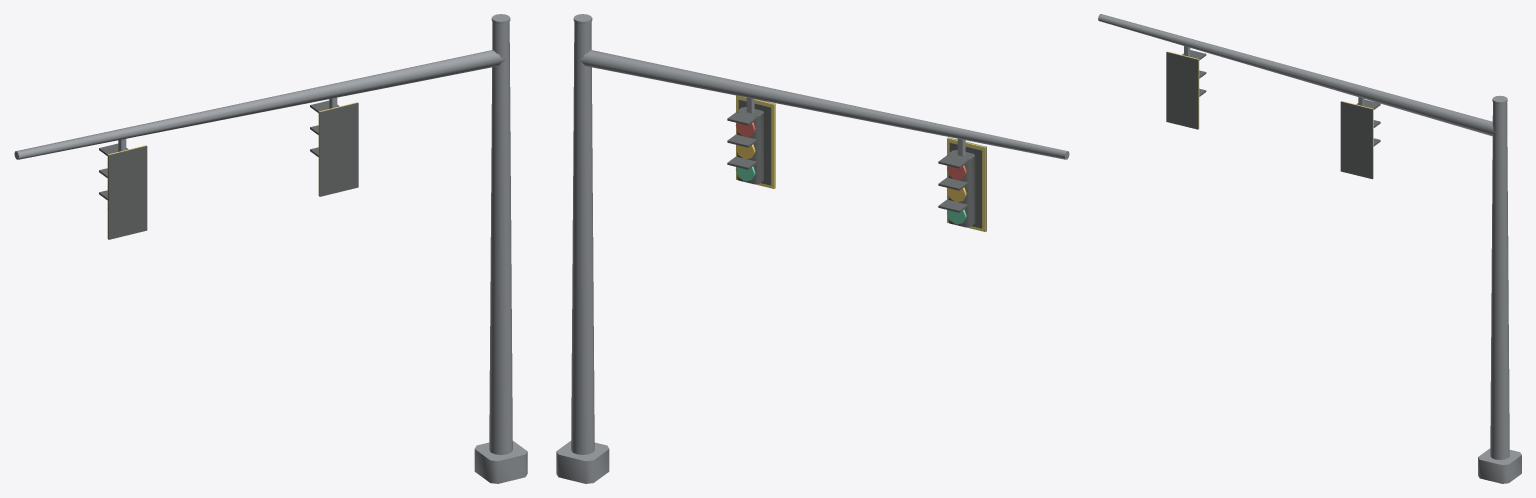
Rendered from signal-2.glb.
The picture shows the model from 3 angles, left to right: view 1: azimuth 30°, elevation 25°; view 2: azimuth 150°, elevation 25°; view 3: azimuth 330°, elevation 25°; orthographic projection. The views are drawn at different scales.
Parts seen in each view (by area): view 1: signal-2; view 2: signal-2; view 3: signal-2.
Part boxes in pixels (x1,y1,x2,y2): signal-2: (14, 14, 527, 483); signal-2: (556, 14, 1069, 483); signal-2: (1098, 14, 1521, 483).
Size of the model in its own units: 1.16 by 1 by 0.0936.
